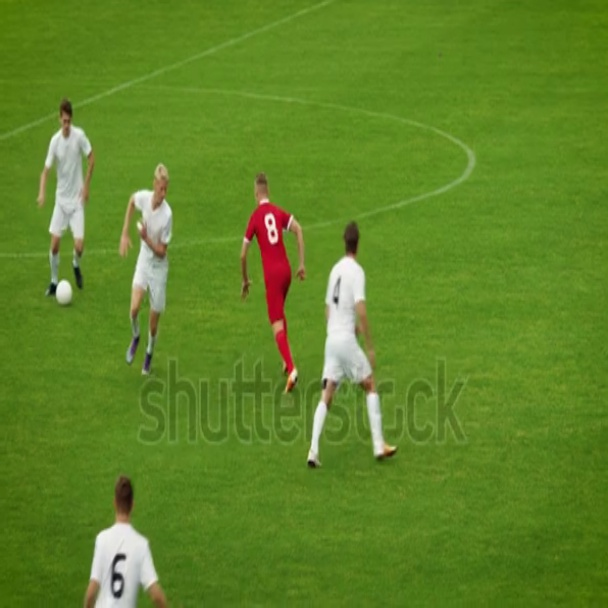ball: (55, 278, 73, 308)
